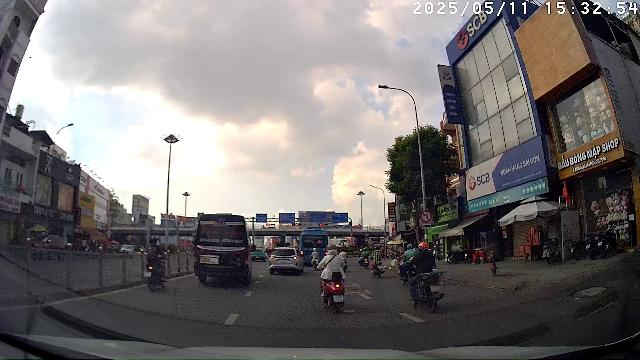123a-cam-re-trai: (421, 210, 432, 222)
